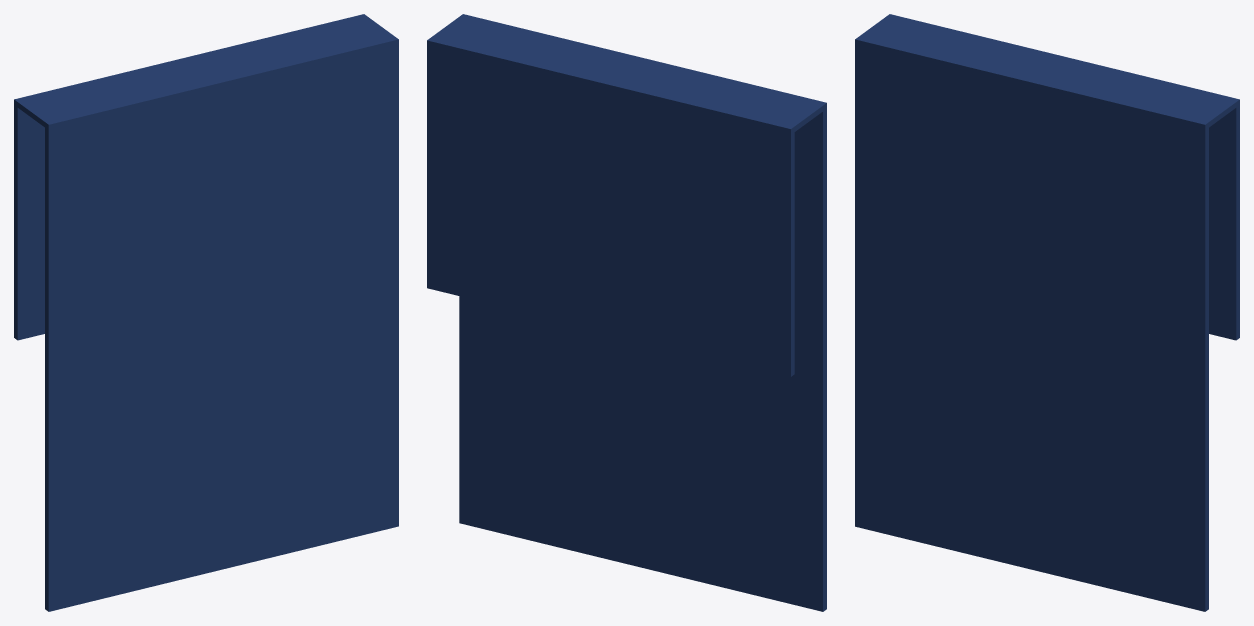
The model's file is Itr_Towel_10.FBX.
3 renders of one model, left to right at view 1: azimuth 30°, elevation 25°; view 2: azimuth 150°, elevation 25°; view 3: azimuth 330°, elevation 25°, orthographic. The views are drawn at different scales.
Parts seen in each view (by area): view 1: Itr_Towel_10; view 2: Itr_Towel_10; view 3: Itr_Towel_10.
Boxes of the visible parts, x1,y1,x2,y2 form: Itr_Towel_10: (14, 14, 398, 611); Itr_Towel_10: (427, 14, 826, 611); Itr_Towel_10: (855, 14, 1239, 611).
Size of the model in its own units: 17.26 by 22.96 by 2.97.
